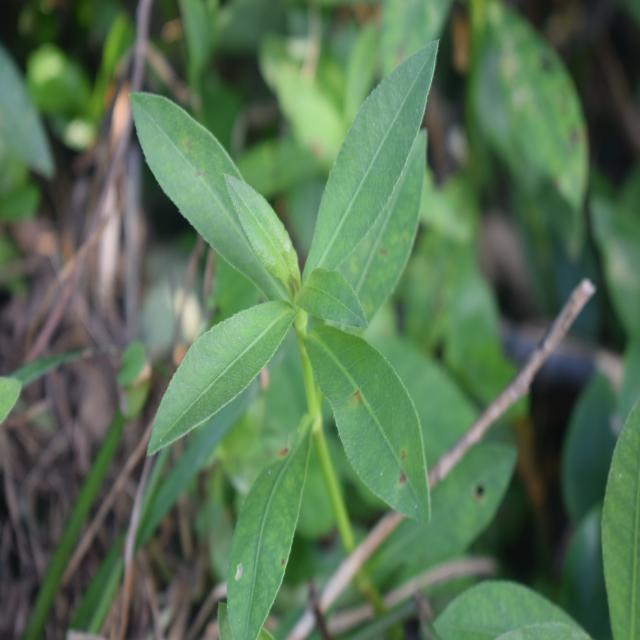Alligatorweed: (119, 54, 453, 532)
